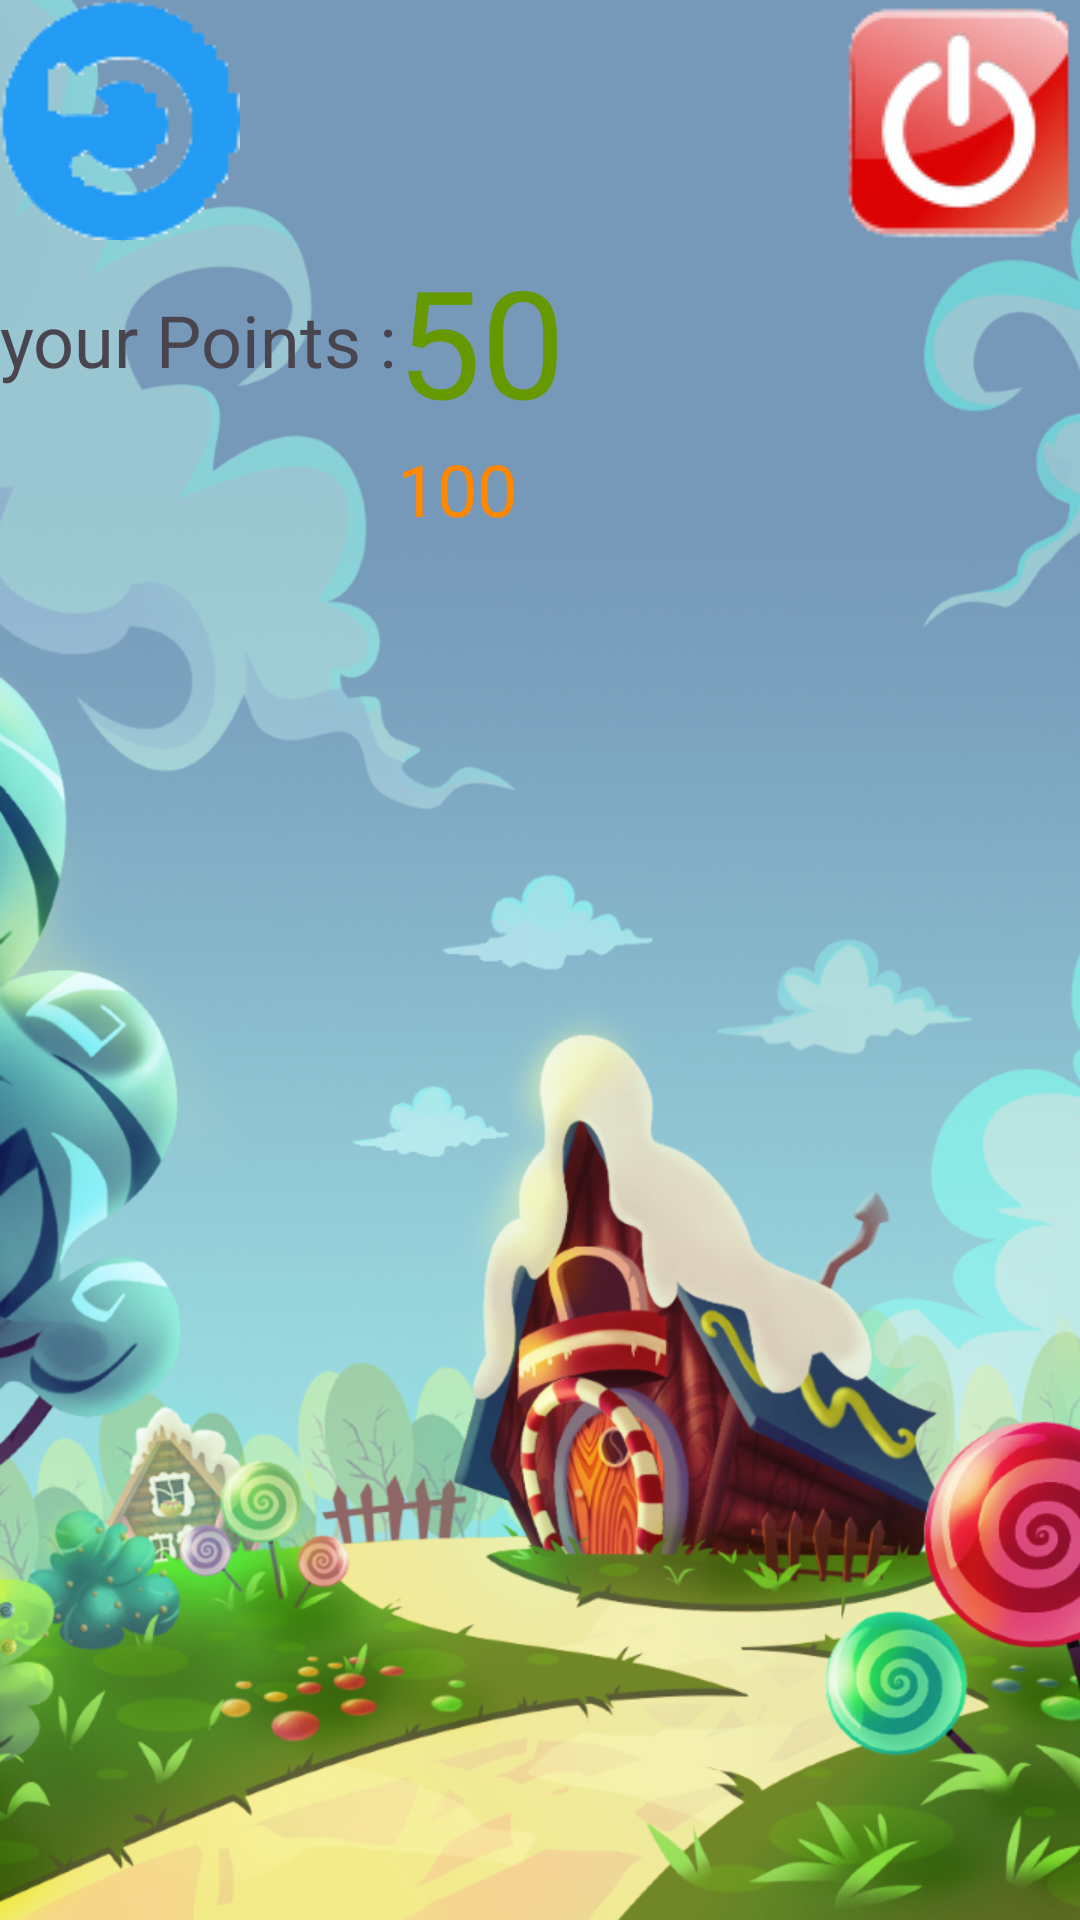

Icon click points for this 1080x1920 phone screenshot, format [x,y]:
exit: [958,123]
restart: [120,120]
